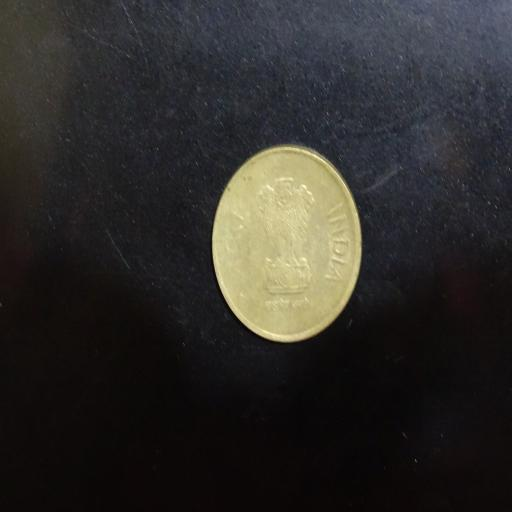rupee5: (209, 144, 360, 341)
